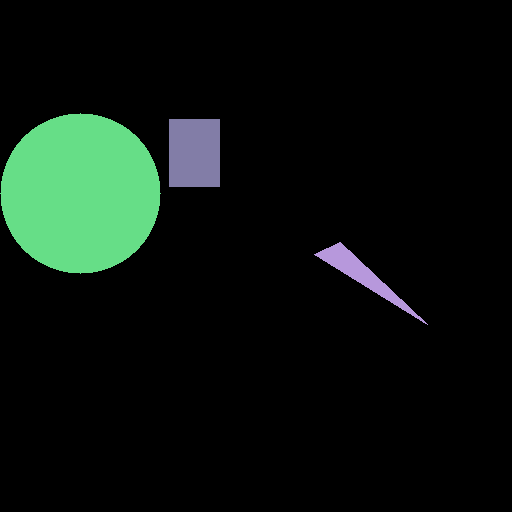circle: (0, 113, 160, 273)
rectangle: (169, 119, 219, 186)
triangle: (314, 242, 427, 324)
